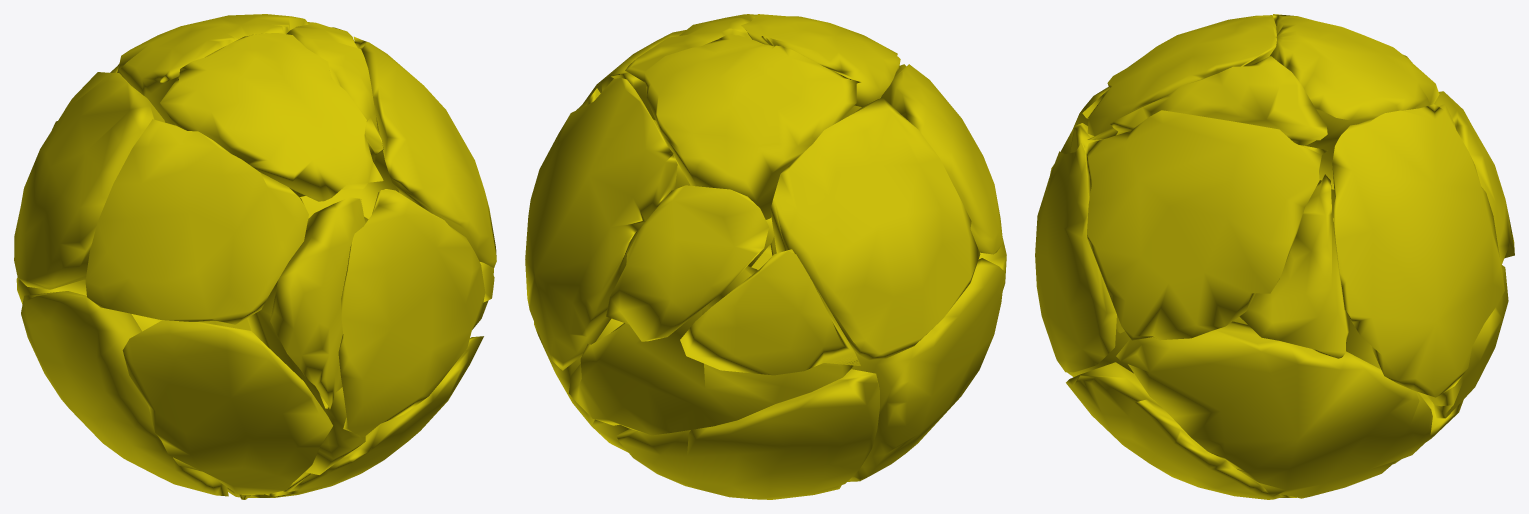
The model's file is fireball_fractured.fbx.
3 renders of one model, left to right at view 1: azimuth 30°, elevation 25°; view 2: azimuth 150°, elevation 25°; view 3: azimuth 270°, elevation 25°, orthographic.
Parts seen in each view (by area): view 1: fireballSurface17, fireballSurface20, fireballSurface15, fireballSurface13, fireballSurface7, fireballSurface9, fireballSurface18, fireballSurface19, fireballSurface8, fireballSurface14, fireballSurface12, fireballSurface16 (+2 smaller); view 2: fireballSurface7, fireballSurface5, fireballSurface8, fireballSurface4, fireballSurface1, fireballSurface3, fireballSurface2, fireballSurface9, fireballSurface17, fireballSurface13, fireballSurface12, fireballSurface10 (+2 smaller); view 3: fireballSurface18, fireballSurface5, fireballSurface10, fireballSurface8, fireballSurface20, fireballSurface6, fireballSurface14, fireballSurface13, fireballSurface12, fireballSurface3, fireballSurface1, fireballSurface4 (+2 smaller).
Part boxes in pixels (bbox=[...]): fireballSurface17: bbox=[85, 119, 308, 324]; fireballSurface20: bbox=[338, 189, 485, 437]; fireballSurface15: bbox=[122, 320, 332, 495]; fireballSurface13: bbox=[160, 33, 383, 201]; fireballSurface7: bbox=[14, 72, 164, 289]; fireballSurface9: bbox=[21, 291, 228, 496]; fireballSurface18: bbox=[353, 36, 496, 267]; fireballSurface19: bbox=[270, 197, 368, 409]; fireballSurface8: bbox=[115, 14, 309, 125]; fireballSurface14: bbox=[227, 336, 483, 497]; fireballSurface12: bbox=[286, 23, 383, 197]; fireballSurface16: bbox=[247, 281, 365, 474]; fireballSurface7: bbox=[770, 97, 980, 360]; fireballSurface5: bbox=[525, 78, 677, 370]; fireballSurface8: bbox=[644, 34, 860, 219]; fireballSurface4: bbox=[616, 369, 879, 499]; fireballSurface1: bbox=[568, 266, 853, 435]; fireballSurface3: bbox=[606, 185, 768, 341]; fireballSurface2: bbox=[680, 249, 860, 375]; fireballSurface9: bbox=[847, 258, 1004, 481]; fireballSurface17: bbox=[880, 64, 1003, 254]; fireballSurface13: bbox=[741, 14, 900, 106]; fireballSurface12: bbox=[625, 14, 757, 82]; fireballSurface10: bbox=[534, 318, 629, 452]; fireballSurface18: bbox=[1085, 110, 1327, 340]; fireballSurface5: bbox=[1332, 104, 1504, 397]; fireballSurface10: bbox=[1116, 321, 1432, 498]; fireballSurface8: bbox=[1270, 14, 1439, 189]; fireballSurface20: bbox=[1035, 143, 1116, 372]; fireballSurface6: bbox=[1239, 174, 1349, 358]; fireballSurface14: bbox=[1066, 362, 1296, 499]; fireballSurface13: bbox=[1082, 15, 1276, 139]; fireballSurface12: bbox=[1110, 56, 1327, 145]; fireballSurface3: bbox=[1434, 91, 1514, 265]; fireballSurface1: bbox=[1426, 265, 1508, 418]; fireballSurface4: bbox=[1346, 319, 1463, 464].
Size of the model in its own units: 1.11 by 1.13 by 1.11.
